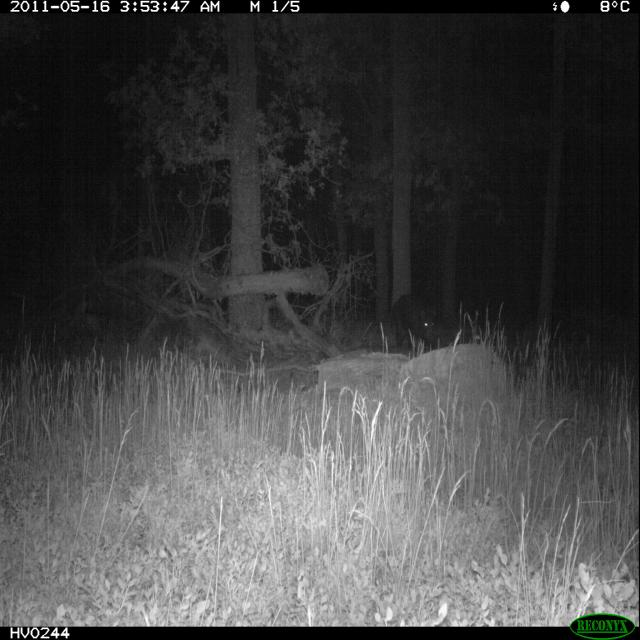boar: (393, 282, 460, 370)
